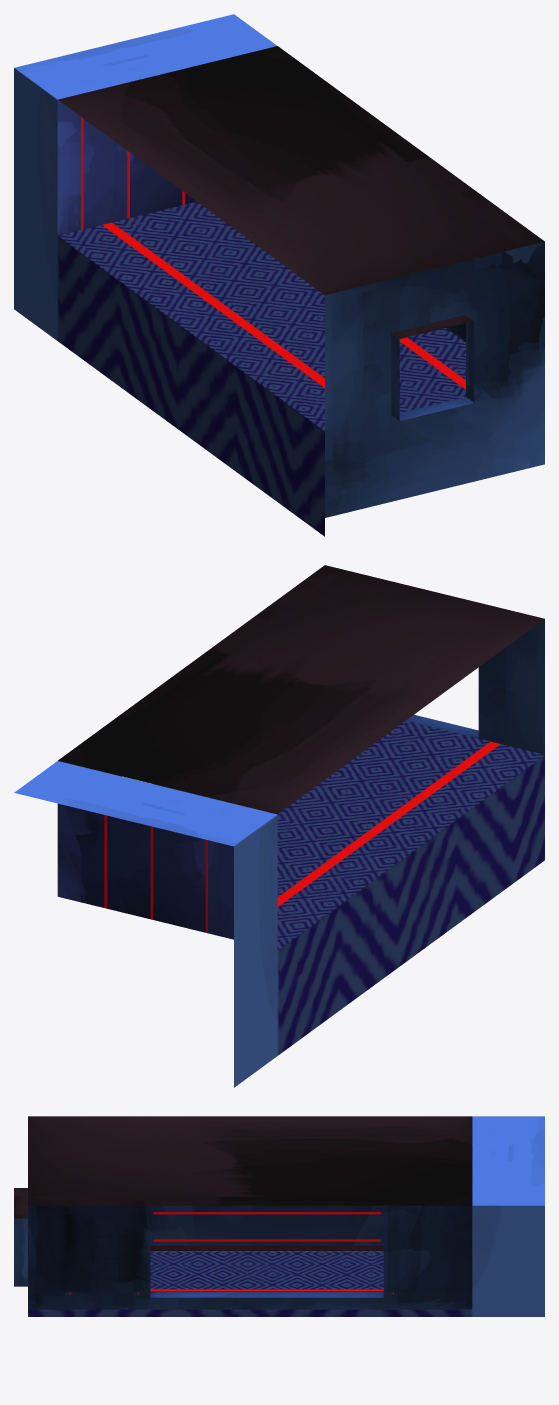
File: lobby_3ds.fbx
3 views of the same model, one above another, from view 1: azimuth 30°, elevation 25°; view 2: azimuth 150°, elevation 25°; view 3: azimuth 270°, elevation 25° (orthographic). The views are drawn at different scales.
Parts seen in each view (by area): view 1: lobby; view 2: lobby; view 3: lobby.
Boxes of the visible parts, box(x1,y1,x2,y2) form: lobby: box(14, 14, 544, 536); lobby: box(14, 565, 544, 1087); lobby: box(14, 1116, 544, 1316).
Bounding box in the file's own units: 7.36 × 7.29 × 17.46.
Materials: 2 (1 with a texture image).
